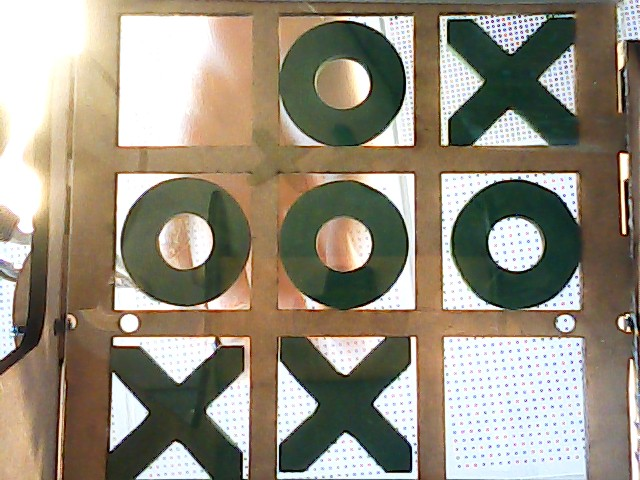O: (117, 175, 251, 310), (442, 179, 578, 311), (281, 178, 412, 312), (278, 17, 413, 140)
X: (107, 342, 253, 480), (278, 334, 412, 479), (441, 18, 581, 145)
